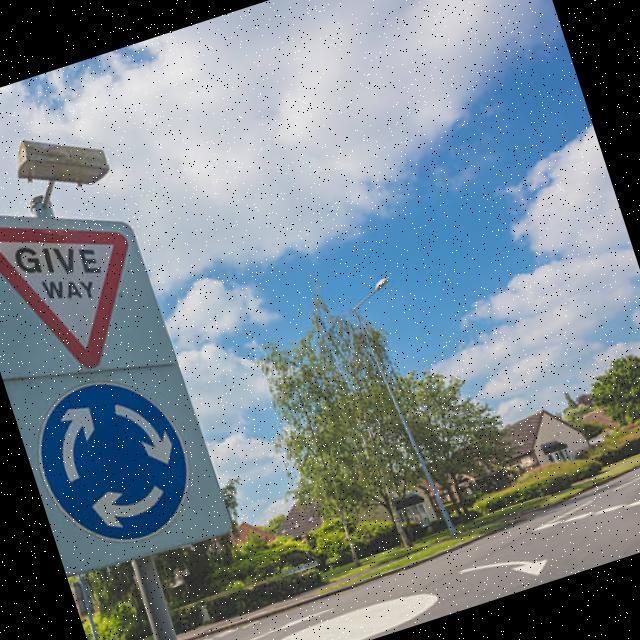round_about: (18, 352, 216, 564)
